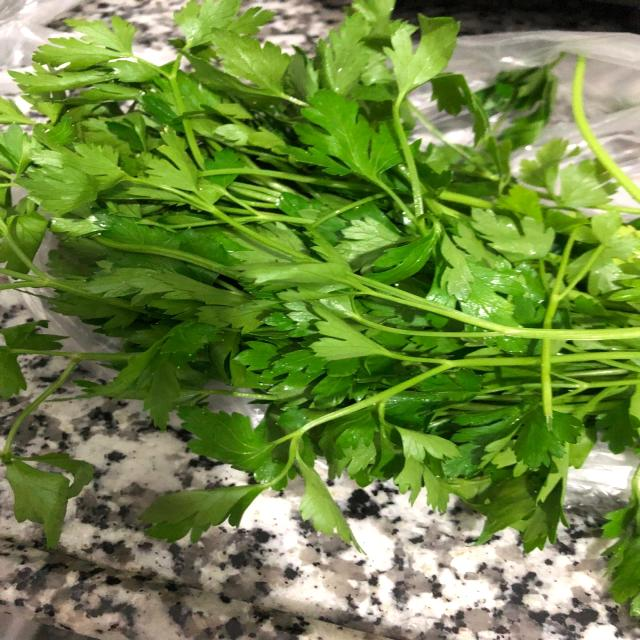parsley: (0, 4, 640, 547)
